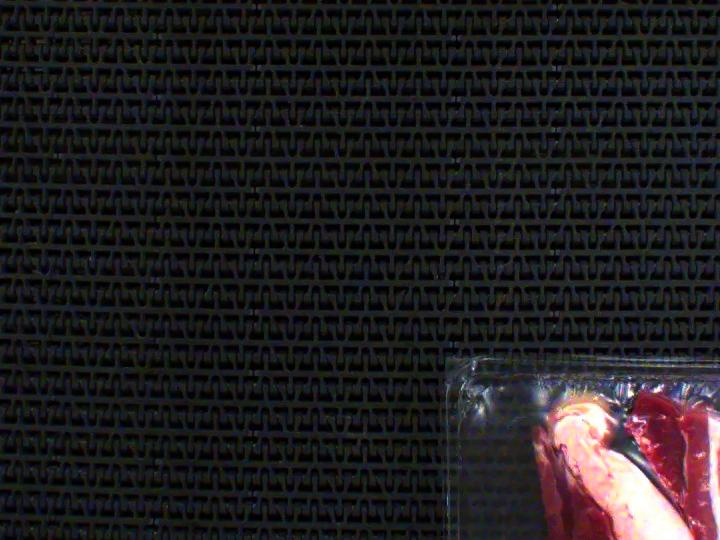unsealed: (433, 358, 720, 540)
